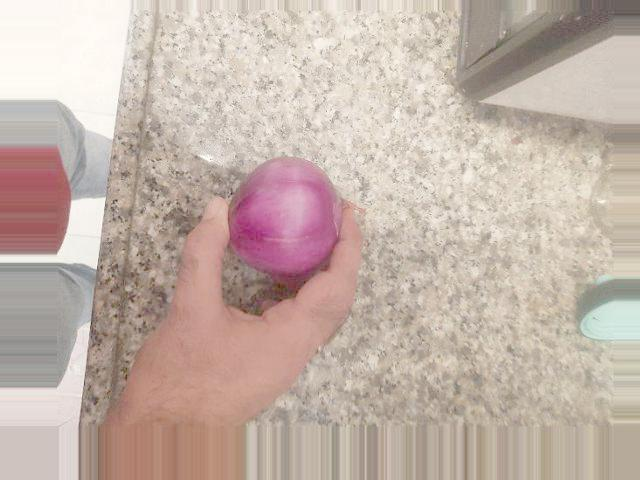onion: (227, 157, 352, 267)
